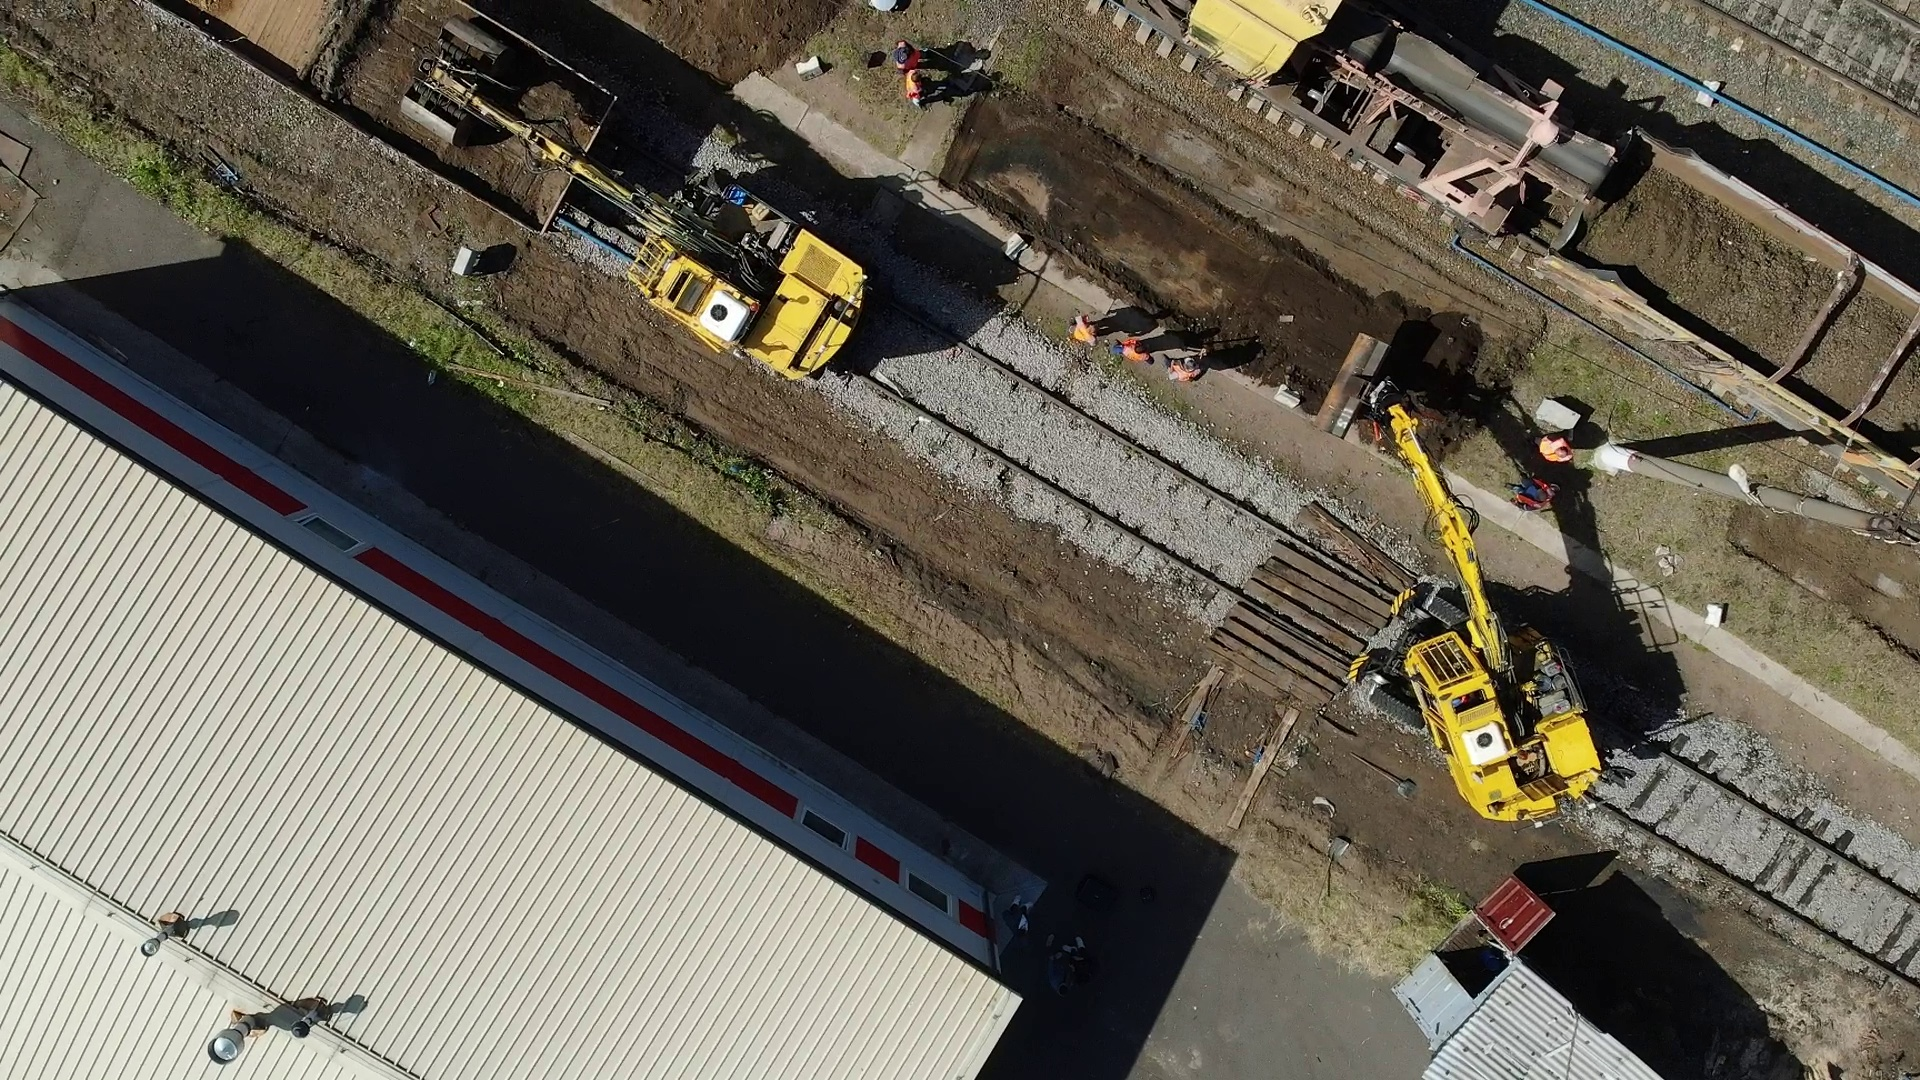kjtv: (1359, 588, 1598, 822), (619, 184, 859, 383)
